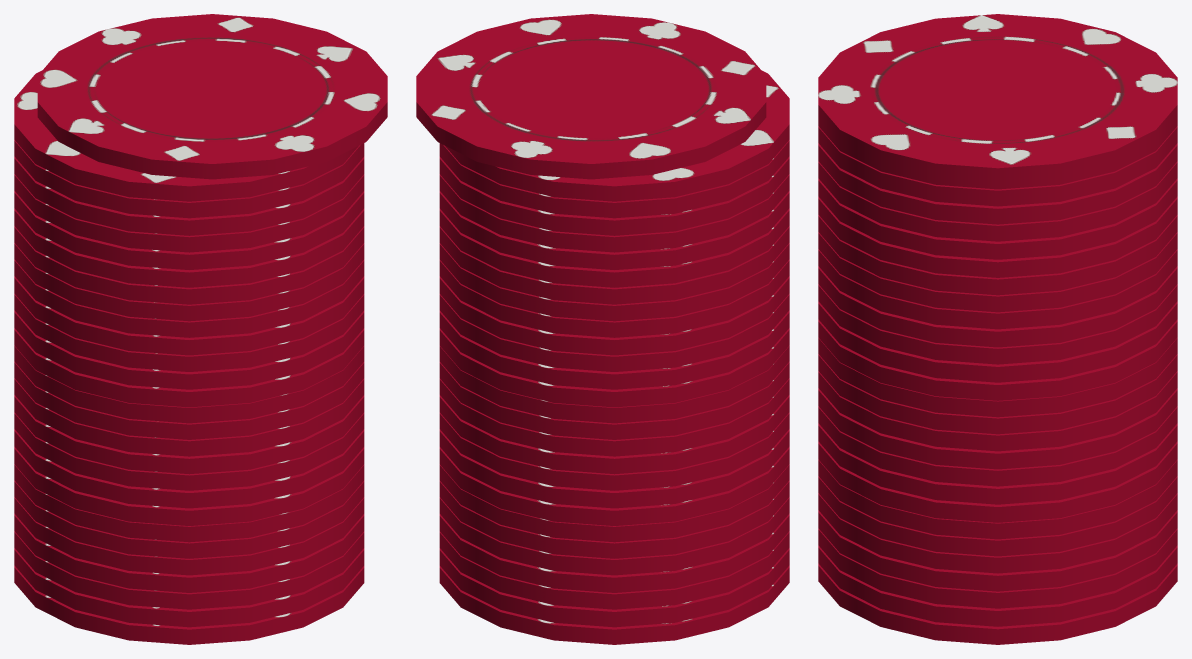
The model's file is pokerChipRedStack.FBX.
The picture shows the model from 3 angles, left to right: view 1: azimuth 30°, elevation 25°; view 2: azimuth 150°, elevation 25°; view 3: azimuth 270°, elevation 25°; orthographic projection. The views are drawn at different scales.
Visible parts, largest first — view 1: Cylinder028; view 2: Cylinder028; view 3: Cylinder028.
Boxes of the visible parts, x1,y1,x2,y2 form: Cylinder028: (14,14,387,644); Cylinder028: (416,14,789,644); Cylinder028: (818,14,1177,644).
Bounding box in the file's own units: 4.42 × 6.07 × 4.05.
1 material, 1 textured.
